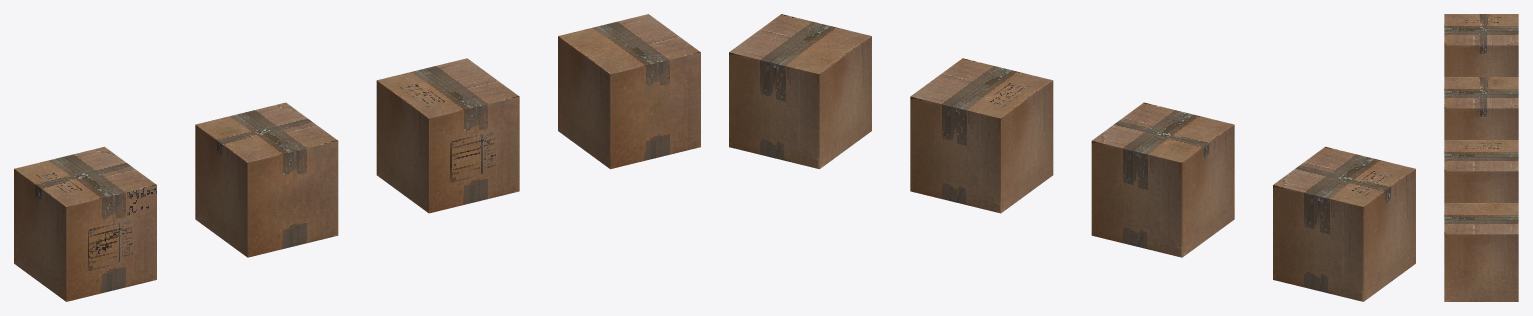
Rendered from Combined.glb.
3 views of the same model, side by side, from view 1: azimuth 30°, elevation 25°; view 2: azimuth 150°, elevation 25°; view 3: azimuth 270°, elevation 25° (orthographic). The views are drawn at different scales.
Visible parts, largest first — view 1: CardboardBox_2, CardboardBox_3, CardboardBox_1, CardboardBox_4; view 2: CardboardBox_2, CardboardBox_3, CardboardBox_1, CardboardBox_4; view 3: CardboardBox_4, CardboardBox_1, CardboardBox_2, CardboardBox_3.
Boxes of the visible parts, <box> form: CardboardBox_2: <box>195,102,338,257</box>; CardboardBox_3: <box>376,58,519,213</box>; CardboardBox_1: <box>14,146,156,301</box>; CardboardBox_4: <box>558,14,700,169</box>; CardboardBox_2: <box>1091,102,1234,257</box>; CardboardBox_3: <box>910,58,1053,213</box>; CardboardBox_1: <box>1273,146,1415,301</box>; CardboardBox_4: <box>729,14,871,169</box>; CardboardBox_4: <box>1444,203,1518,301</box>; CardboardBox_1: <box>1444,14,1518,76</box>; CardboardBox_2: <box>1444,77,1518,139</box>; CardboardBox_3: <box>1444,140,1518,202</box>.
Bounding box in the file's own units: 3.5 × 0.5 × 0.5.
4 materials, 4 textured.
